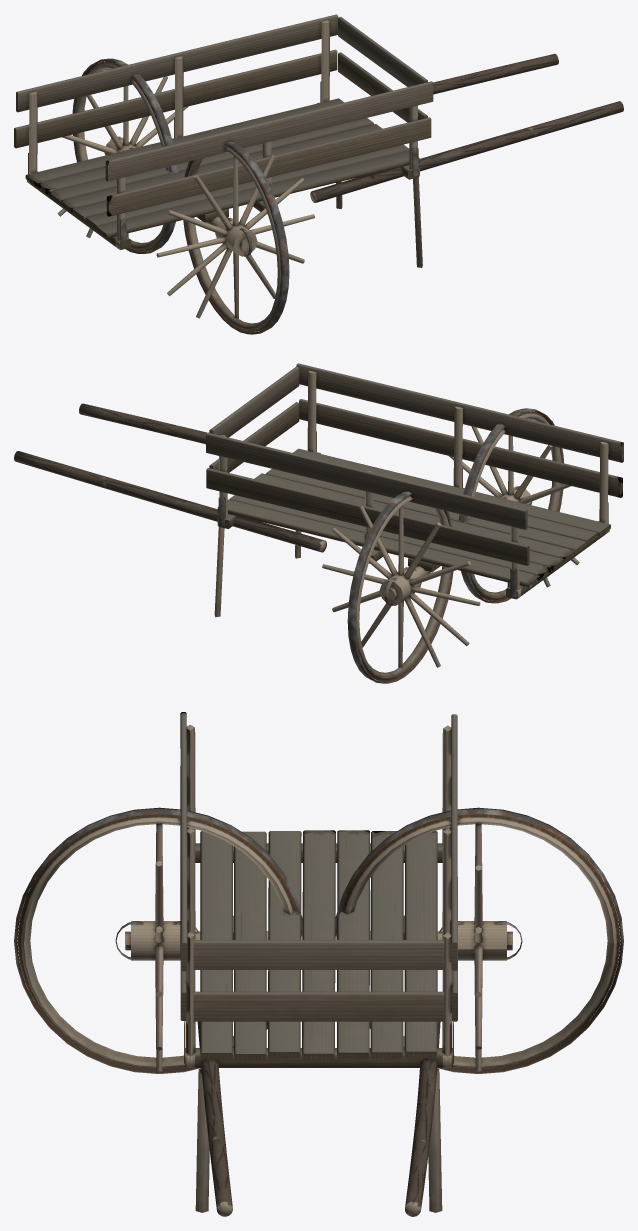
The model's file is SM_Camp_HandCart.fbx.
3 views of the same model, one above another, from view 1: azimuth 30°, elevation 25°; view 2: azimuth 150°, elevation 25°; view 3: azimuth 270°, elevation 25° (orthographic). The views are drawn at different scales.
Visible parts, largest first — view 1: SM_Camp_HandCart; view 2: SM_Camp_HandCart; view 3: SM_Camp_HandCart.
Part boxes in pixels (x1,y1,x2,y2): SM_Camp_HandCart: (14, 14, 623, 334); SM_Camp_HandCart: (14, 363, 623, 683); SM_Camp_HandCart: (14, 712, 623, 1216).
Bounding box in the file's own units: 311 × 214 × 107.
